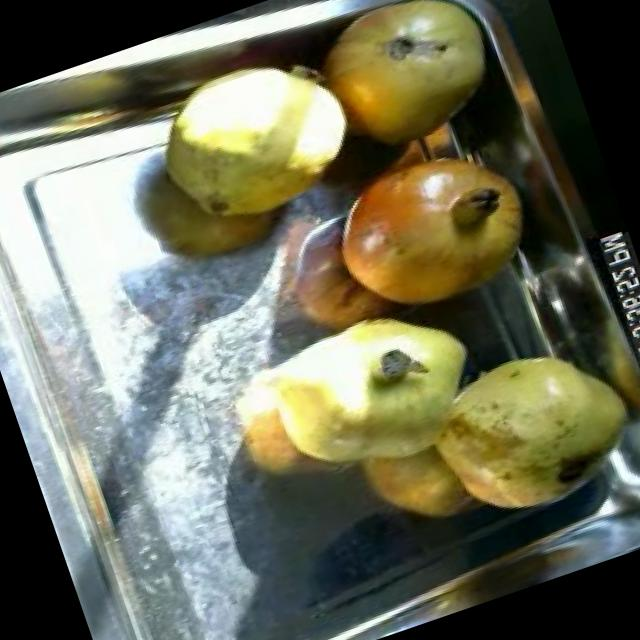fruit: (235, 282, 506, 514), (302, 116, 553, 342), (396, 318, 640, 548), (130, 35, 376, 252), (289, 0, 516, 173)
